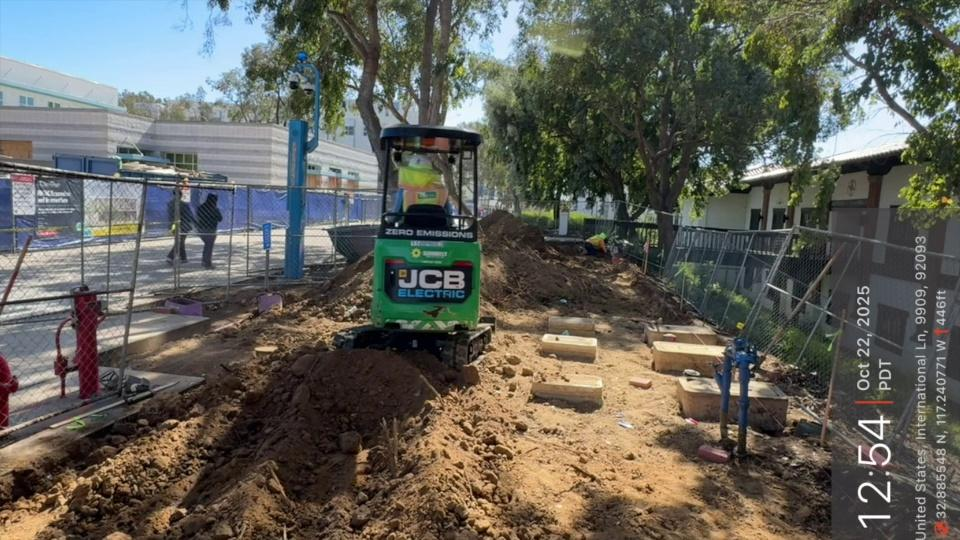Exacavator: (329, 122, 495, 368)
